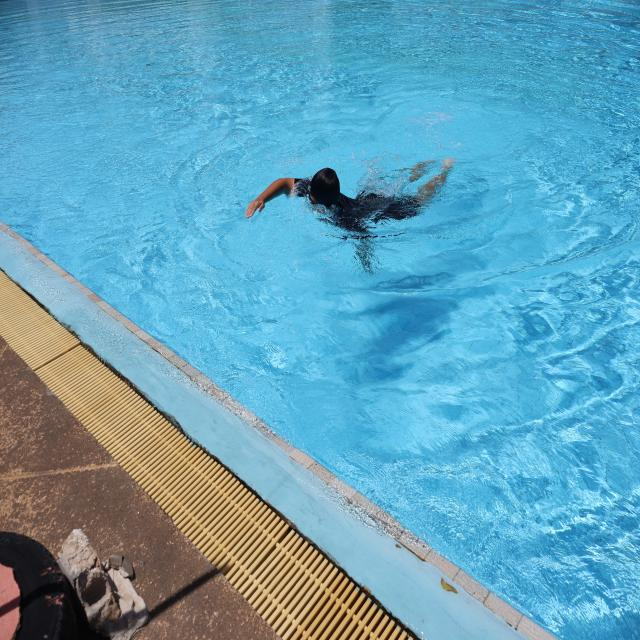Swimming: (244, 157, 456, 276)
